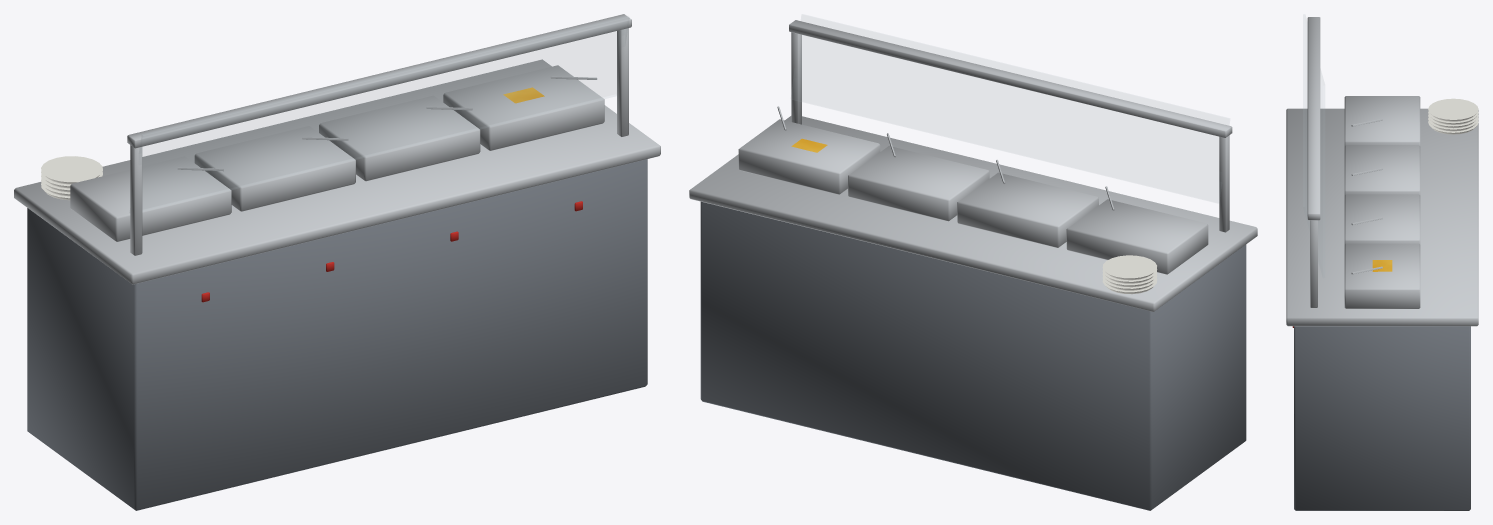
File: buffet_chafing_buffet_line.glb
3 views of the same model, side by side, from view 1: azimuth 30°, elevation 25°; view 2: azimuth 150°, elevation 25°; view 3: azimuth 270°, elevation 25° (orthographic). The views are drawn at different scales.
Parts seen in each view (by area): view 1: buffet_chafing_buffet_line; view 2: buffet_chafing_buffet_line; view 3: buffet_chafing_buffet_line.
Part boxes in pixels (x1,y1,x2,y2): buffet_chafing_buffet_line: (14,14,660,510); buffet_chafing_buffet_line: (689,14,1257,510); buffet_chafing_buffet_line: (1286,15,1478,510).
Size of the model in its own units: 1.96 by 1.31 by 0.76.
Materials: 9 (4 with a texture image).
